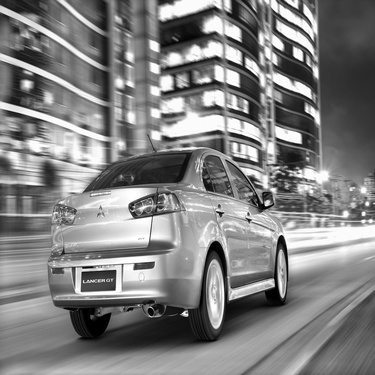car: (36, 138, 297, 347)
